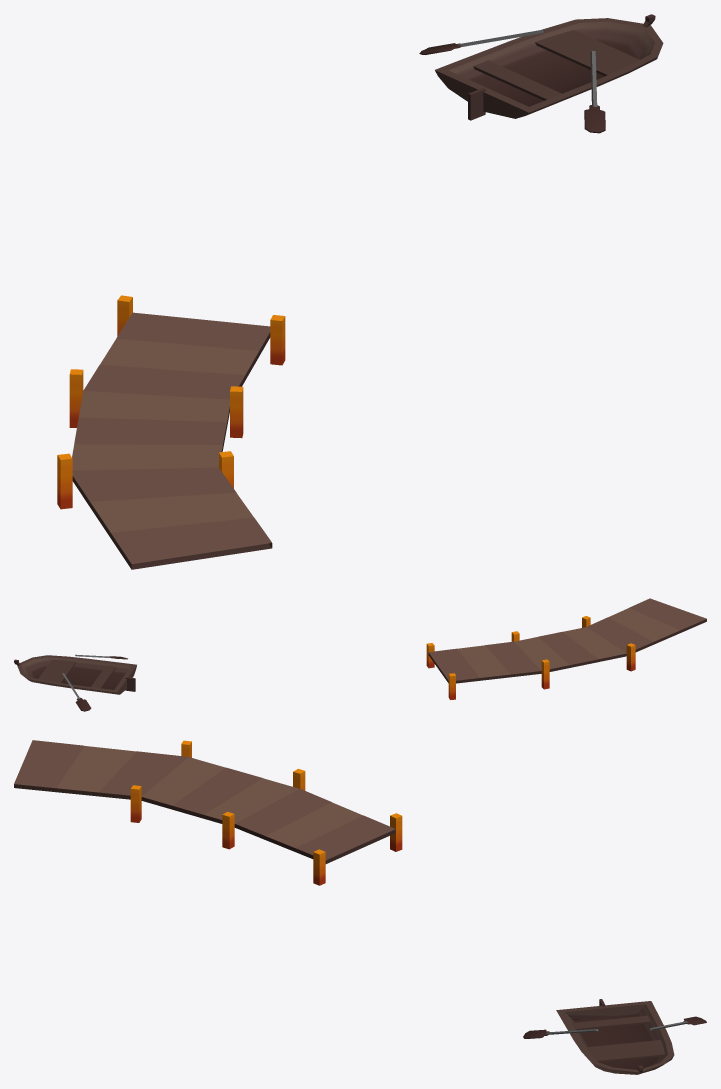
Rendered from SHIP_LV1.FBX.
3 views of the same model, one above another, from view 1: azimuth 30°, elevation 25°; view 2: azimuth 150°, elevation 25°; view 3: azimuth 270°, elevation 25° (orthographic). The views are drawn at different scales.
Visible parts, largest first — view 1: LV_1; view 2: LV_1; view 3: LV_1.
Boxes of the visible parts, x1,y1,x2,y2 form: LV_1: (57,14,663,569); LV_1: (14,598,706,711); LV_1: (14,740,706,1074).
Bounding box in the file's own units: 28.78 × 1.54 × 25.66.
Materials: 1 (1 with a texture image).
